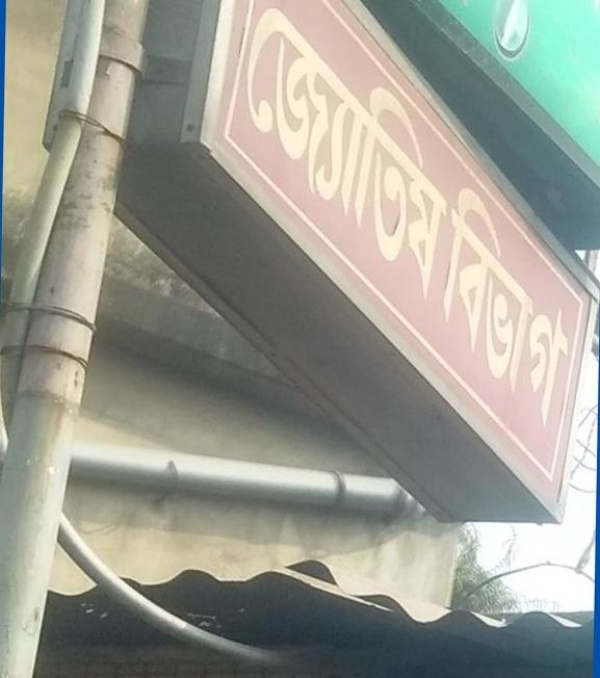text: (257, 2, 272, 320), (273, 2, 288, 320), (289, 2, 304, 320), (305, 2, 320, 320), (321, 2, 336, 320), (337, 2, 352, 320), (353, 2, 368, 320), (369, 2, 384, 320), (385, 2, 400, 320), (401, 2, 416, 320), (417, 2, 432, 320), (433, 2, 448, 320), (449, 2, 464, 320), (465, 170, 480, 435), (481, 170, 496, 435), (497, 170, 512, 435), (513, 170, 528, 435), (529, 170, 544, 435), (545, 170, 560, 435), (561, 170, 576, 435), (577, 170, 584, 435), (459, 170, 464, 435), (254, 2, 256, 320)
